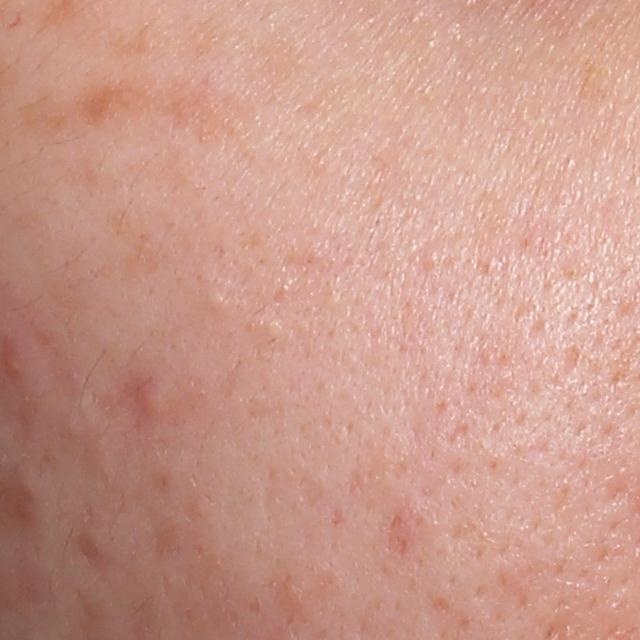atrophic_scar: (554, 340, 582, 382)
comedo: (204, 287, 232, 316)
melasma: (162, 70, 269, 157), (74, 72, 162, 129), (108, 16, 162, 61)
papule: (136, 377, 166, 423), (1, 340, 24, 381)
